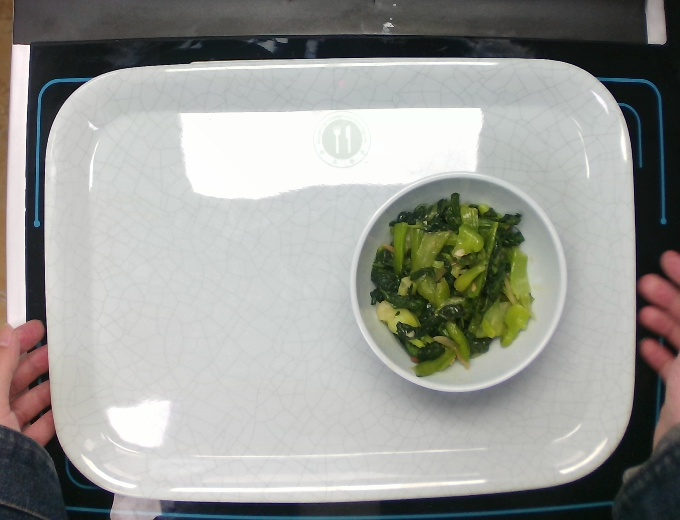JYsf-Fan_Wan: (346, 167, 572, 397)
